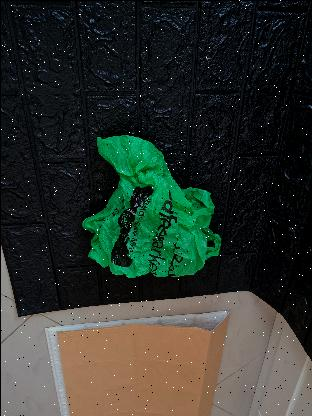Others: (80, 134, 222, 278)
